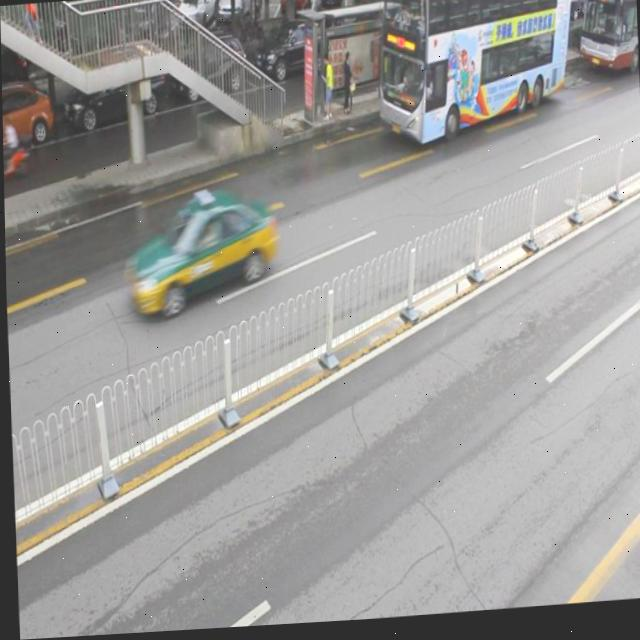car: (128, 191, 278, 316), (65, 55, 165, 130), (252, 21, 334, 85), (179, 35, 245, 102), (1, 78, 55, 158)
van: (370, 0, 575, 154), (574, 0, 638, 84)
